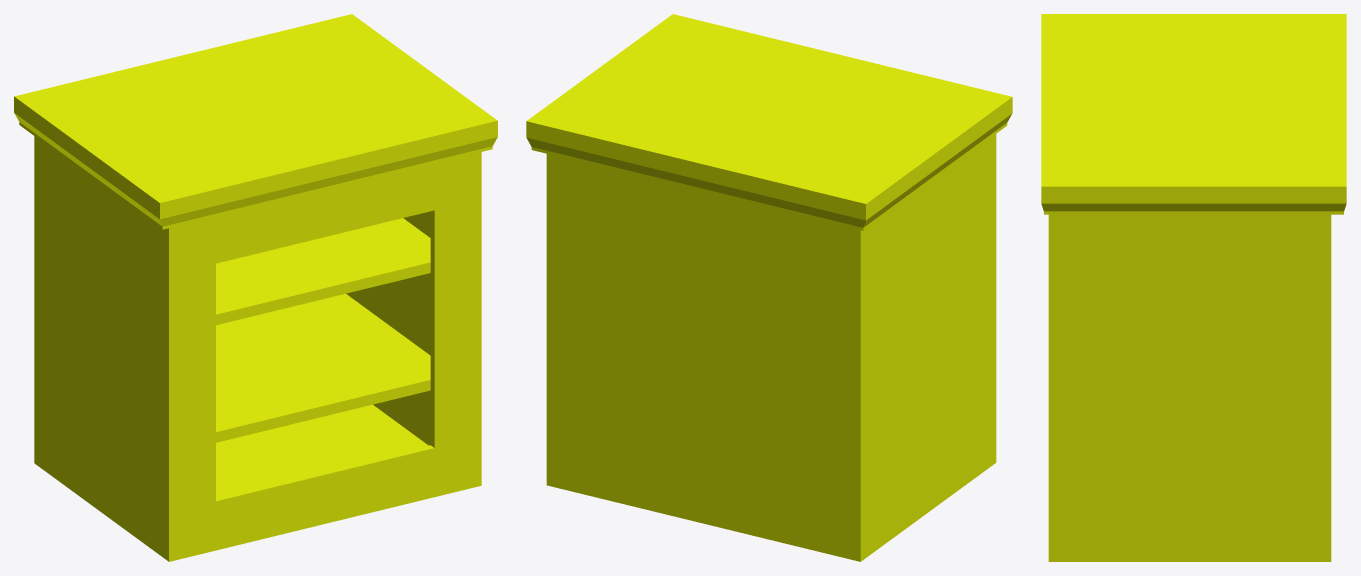
The model's file is MirrorBoard3.FBX.
3 renders of one model, left to right at view 1: azimuth 30°, elevation 25°; view 2: azimuth 150°, elevation 25°; view 3: azimuth 270°, elevation 25°, orthographic. The views are drawn at different scales.
Visible parts, largest first — view 1: Box004; view 2: Box004; view 3: Box004.
Boxes of the visible parts, left/top/right/bottom form: Box004: left=14, top=14, right=497, bottom=561; Box004: left=526, top=14, right=1012, bottom=561; Box004: left=1041, top=14, right=1346, bottom=561.
Size of the model in its own units: 0.8262 by 0.8517 by 0.6171.
